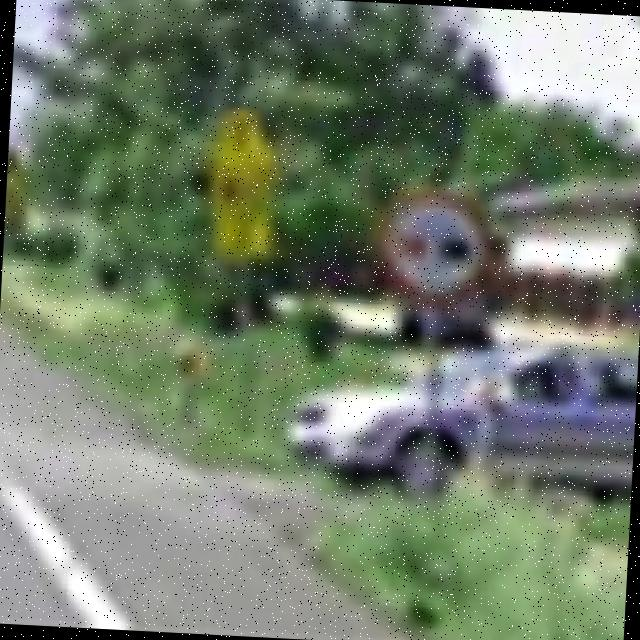Zakaz wyprzedzania: (372, 184, 493, 306)
